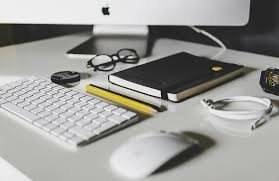pen: (81, 80, 160, 110)
